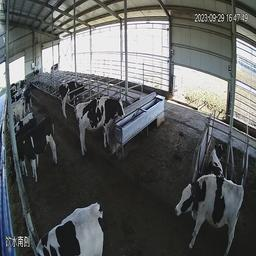cow: (161, 165, 249, 252), (31, 197, 107, 254), (73, 88, 127, 161), (19, 116, 62, 185), (55, 74, 86, 112), (203, 134, 225, 173), (8, 112, 35, 138), (5, 94, 25, 108), (9, 78, 25, 92)
